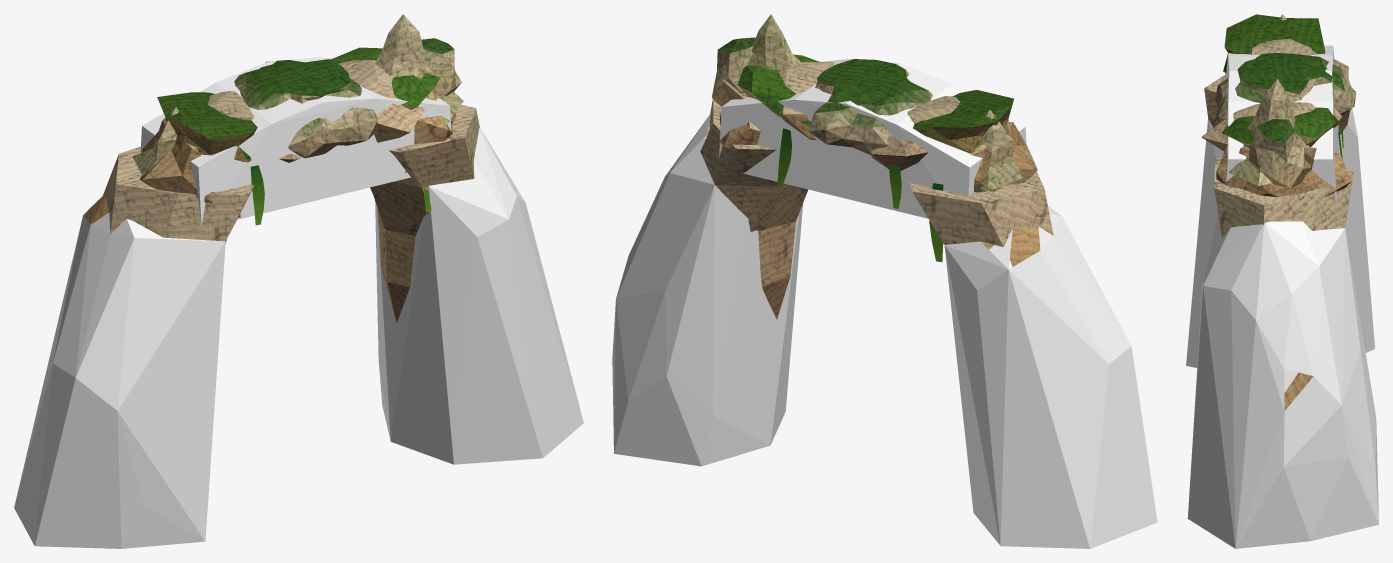
The model's file is coastal_sea_arch.glb.
The picture shows the model from 3 angles, left to right: view 1: azimuth 30°, elevation 25°; view 2: azimuth 150°, elevation 25°; view 3: azimuth 270°, elevation 25°; orthographic projection. The views are drawn at different scales.
Parts seen in each view (by area): view 1: col_arch_left, col_arch_right, CoastalSeaArch, col_arch_bridge; view 2: col_arch_left, col_arch_right, CoastalSeaArch, col_arch_bridge; view 3: col_arch_right, CoastalSeaArch, col_arch_left, col_arch_bridge.
Boxes of the visible parts, x1,y1,x2,y2 form: col_arch_left: (14, 209, 225, 548); col_arch_right: (375, 127, 583, 464); CoastalSeaArch: (84, 14, 479, 323); col_arch_bridge: (140, 57, 451, 225); col_arch_left: (944, 205, 1157, 548); col_arch_right: (612, 114, 802, 466); CoastalSeaArch: (700, 14, 1053, 319); col_arch_bridge: (719, 59, 1026, 218); col_arch_right: (1187, 215, 1378, 548); CoastalSeaArch: (1201, 14, 1356, 410); col_arch_left: (1186, 108, 1374, 367); col_arch_bridge: (1222, 45, 1338, 204).
Size of the model in its own units: 23.32 by 17.85 by 7.82.
4 materials, 3 textured.
